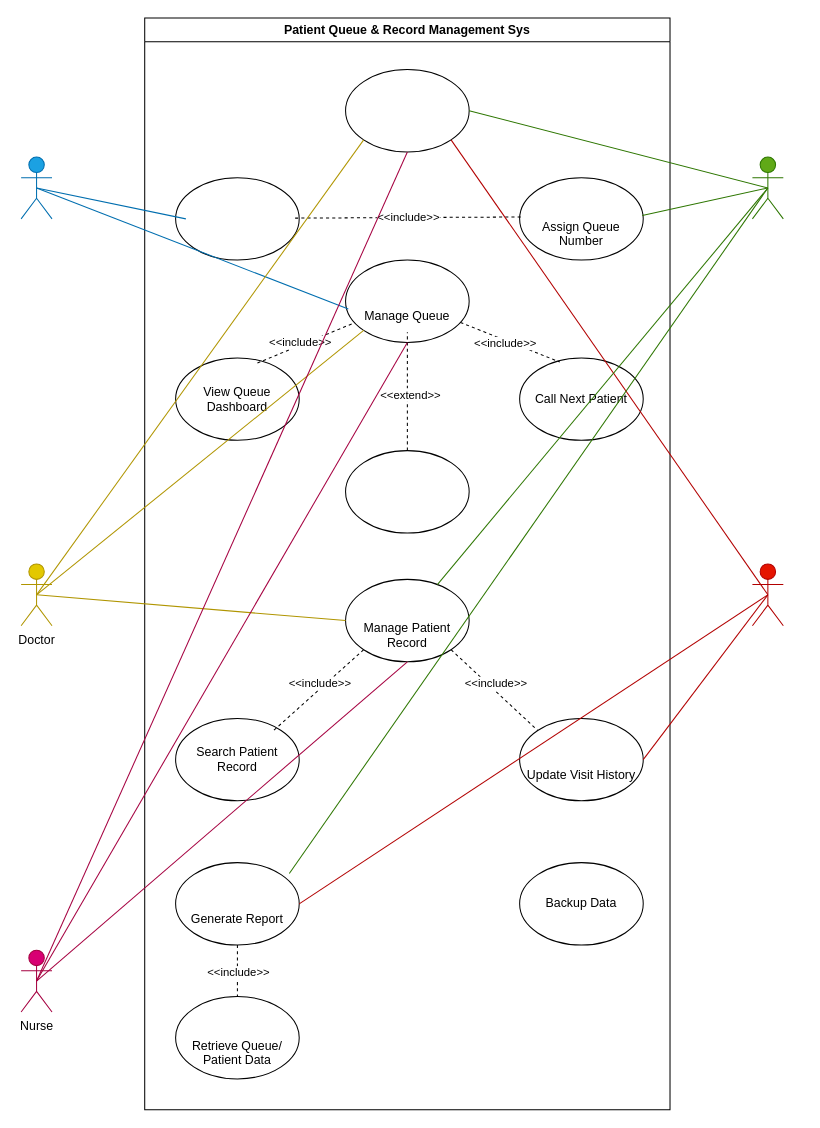
Some shapes in this 820 by 1128 pixel diagram are drawn without their labels. Each missing label, with the centre of its shape:
"Admin" belongs at point 767,594.
"Flag Priority / Emergency Patient" belongs at point 407,491.
"Patient" belongs at point 36,187.
"Receptionist" belongs at point 767,187.
"Register Patient" belongs at point 237,218.
"User Login" belongs at point 407,110.
